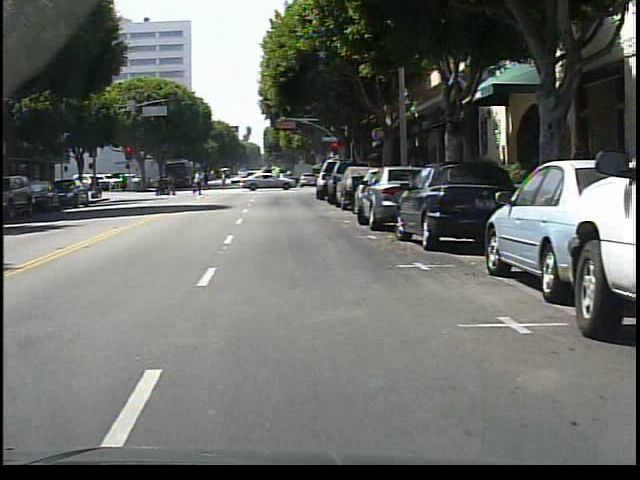person: (188, 168, 208, 198)
